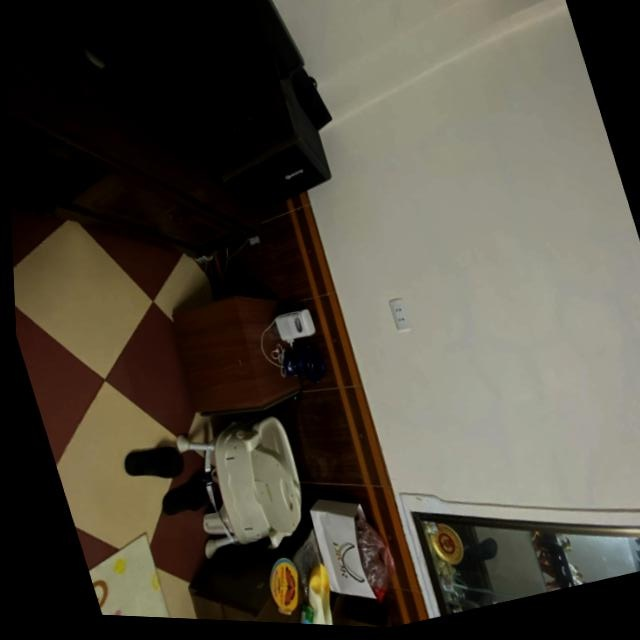outlet: (388, 296, 414, 332)
